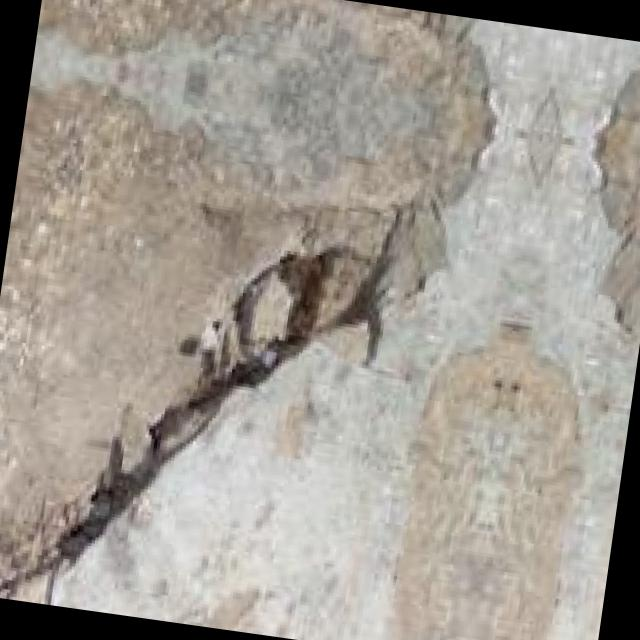crack: (0, 95, 447, 616)
